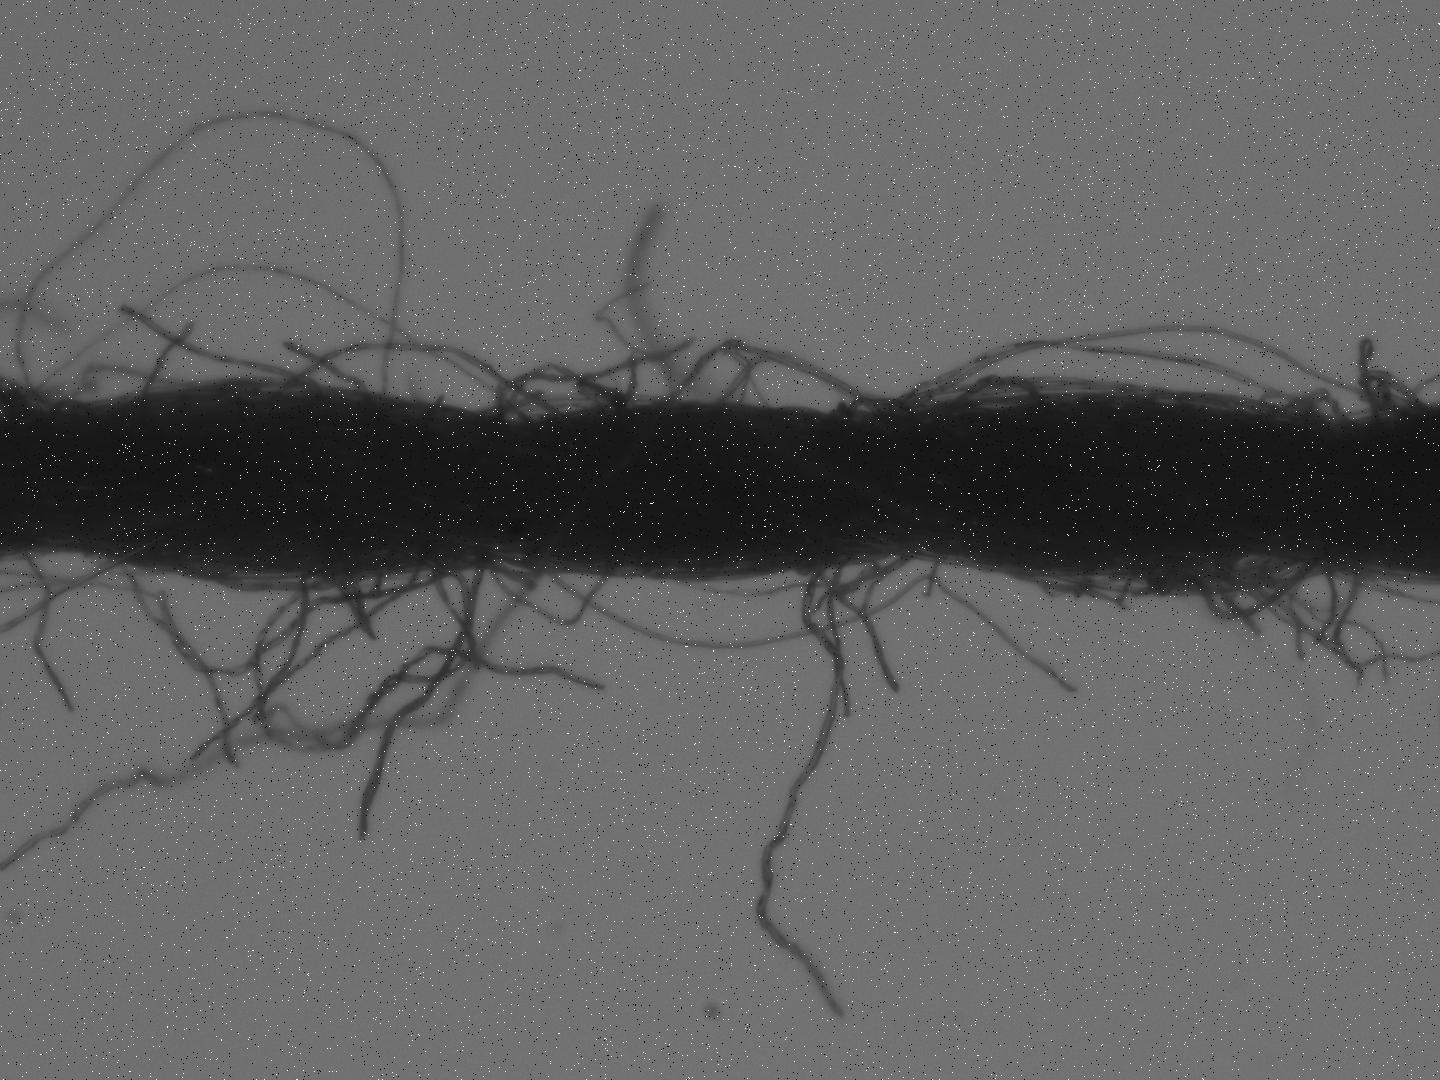loop_fiber: (249, 565, 477, 757), (276, 338, 571, 424), (663, 335, 915, 424), (1176, 546, 1337, 625), (486, 358, 643, 429), (485, 552, 624, 631), (155, 556, 355, 592), (945, 370, 1058, 428), (1019, 567, 1141, 610), (1260, 381, 1361, 427), (1356, 368, 1434, 423)
protruding_fiber: (128, 304, 207, 397)
